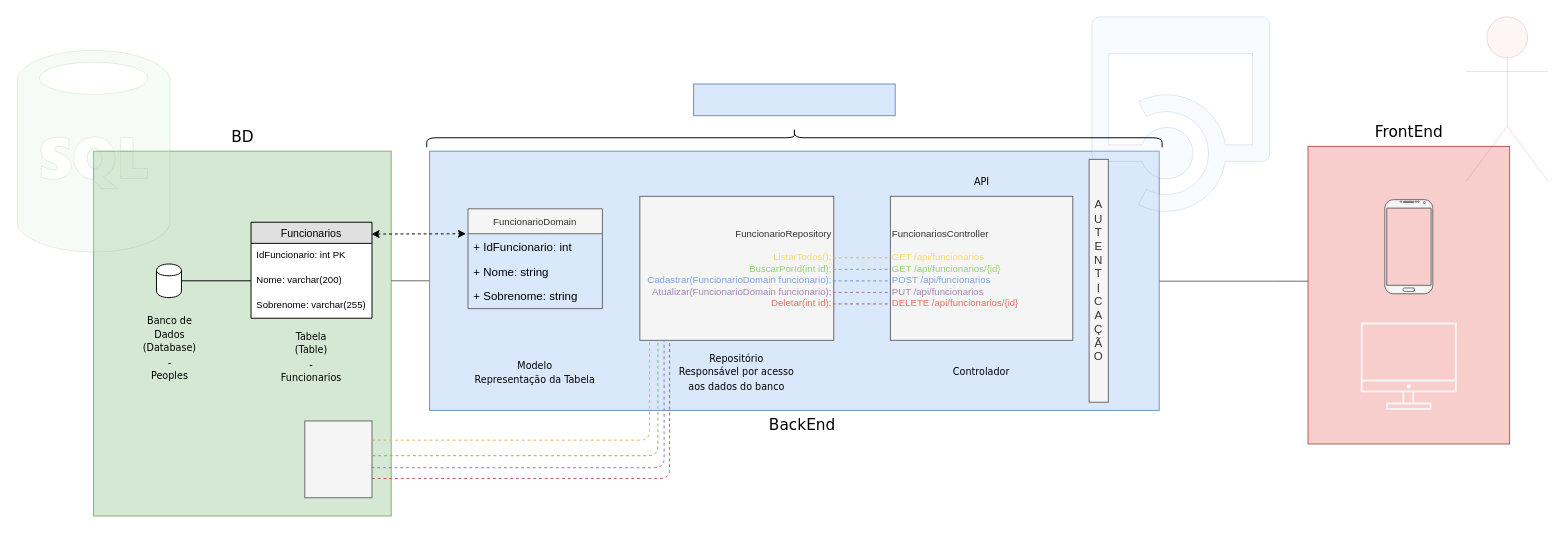
Some shapes in this 1565 by 533 pixel diagram are drawn without their labels. Each missing label, with the centre of its shape:
SELECT INSERT UPDATE DELETE: the point at 338,459
Swagger - Documentação: the point at 794,99
